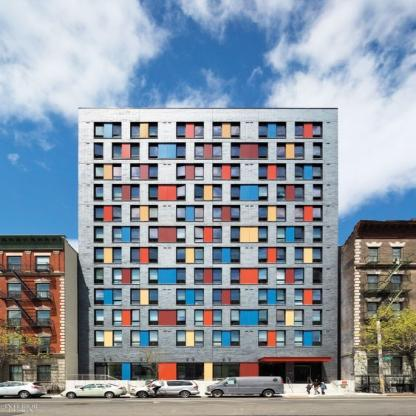Building Outline: (78, 108, 338, 396)
Dont: (204, 376, 287, 397), (129, 379, 200, 398), (60, 383, 128, 399), (304, 378, 327, 395)
Door: (294, 363, 322, 384)
Facade: (78, 108, 338, 396)
Floor: (78, 355, 338, 396), (78, 330, 338, 353), (78, 204, 338, 223), (78, 225, 338, 244), (78, 308, 338, 327), (78, 142, 338, 160), (78, 163, 338, 181), (78, 184, 338, 202), (78, 247, 338, 265), (78, 267, 338, 285), (78, 288, 338, 306)
Floor Slab: (78, 352, 338, 355), (78, 160, 338, 163), (78, 201, 338, 204), (78, 285, 338, 288), (78, 327, 338, 330), (78, 181, 338, 183), (78, 223, 338, 225), (78, 244, 338, 246), (78, 265, 338, 267), (78, 306, 338, 308), (78, 139, 338, 141)
Glass Wall: (259, 363, 285, 384), (130, 363, 158, 381), (177, 363, 204, 381), (213, 363, 240, 381), (107, 363, 121, 381)
Top Floor: (78, 108, 338, 139)
Window: (294, 143, 303, 159), (313, 143, 322, 159), (94, 143, 103, 159), (112, 143, 121, 159), (130, 143, 139, 159), (149, 143, 158, 159), (176, 143, 185, 159), (195, 143, 204, 159), (212, 143, 221, 159), (231, 143, 240, 159), (259, 143, 268, 159), (277, 143, 286, 159), (295, 164, 304, 180), (313, 164, 322, 180), (95, 164, 104, 180), (112, 164, 121, 180), (131, 164, 140, 180), (149, 164, 158, 180), (177, 164, 186, 180), (195, 164, 204, 180), (213, 164, 222, 180), (231, 164, 240, 180), (259, 164, 268, 180), (277, 164, 286, 180), (295, 184, 304, 200), (313, 184, 322, 200), (95, 184, 104, 200), (112, 184, 121, 200), (131, 184, 140, 200), (149, 184, 158, 200), (177, 184, 186, 200), (195, 184, 204, 200), (213, 184, 222, 200), (231, 184, 240, 200), (259, 184, 268, 200), (277, 184, 286, 200), (295, 205, 304, 221), (313, 205, 322, 221), (95, 205, 104, 221), (112, 205, 121, 221), (131, 205, 140, 221), (149, 205, 158, 221), (177, 205, 186, 221), (195, 205, 204, 221), (213, 205, 222, 221), (231, 205, 240, 221), (259, 205, 268, 221), (277, 205, 286, 221), (295, 226, 304, 242), (313, 226, 322, 242), (95, 226, 104, 242), (112, 226, 121, 242), (131, 226, 140, 242), (149, 226, 158, 242), (177, 226, 186, 242), (195, 226, 204, 242), (213, 226, 222, 242), (231, 226, 240, 242), (259, 226, 268, 242), (277, 226, 286, 242), (295, 247, 304, 263), (313, 247, 322, 263), (95, 247, 104, 263), (112, 247, 121, 263), (131, 247, 140, 263), (149, 247, 158, 263), (177, 247, 186, 263), (195, 247, 204, 263), (213, 247, 222, 263), (231, 247, 240, 263), (259, 247, 268, 263), (277, 247, 286, 263), (295, 268, 304, 284), (313, 268, 322, 284), (95, 268, 104, 284), (112, 268, 121, 284), (131, 268, 140, 284), (149, 268, 158, 284), (177, 268, 186, 284), (195, 268, 204, 284), (213, 268, 222, 284), (231, 268, 240, 284), (259, 268, 268, 284), (277, 268, 286, 284), (295, 309, 304, 325), (313, 309, 322, 325), (95, 309, 104, 325), (112, 309, 121, 325), (131, 309, 140, 325), (149, 309, 158, 325), (177, 309, 186, 325), (195, 309, 204, 325), (213, 309, 222, 325), (231, 309, 240, 325), (259, 309, 268, 325), (277, 309, 286, 325), (295, 331, 304, 346), (313, 331, 322, 346), (95, 331, 104, 346), (112, 331, 121, 346), (131, 331, 140, 346), (149, 331, 158, 346), (177, 331, 186, 346), (195, 331, 204, 346), (213, 331, 222, 346), (231, 331, 240, 346), (259, 331, 268, 346), (277, 331, 286, 346), (295, 122, 304, 137), (313, 122, 322, 137), (95, 122, 104, 137), (112, 122, 121, 137), (131, 122, 140, 137), (149, 122, 158, 137), (177, 122, 186, 137), (195, 122, 204, 137), (213, 122, 222, 137), (231, 122, 240, 137), (259, 122, 268, 137), (277, 122, 286, 137), (295, 289, 304, 304), (313, 289, 322, 304), (95, 289, 104, 304), (112, 289, 121, 304), (131, 289, 140, 304), (149, 289, 158, 304), (177, 289, 186, 304), (195, 289, 204, 304), (213, 289, 222, 304), (231, 289, 240, 304), (259, 289, 268, 304), (277, 289, 286, 304)
